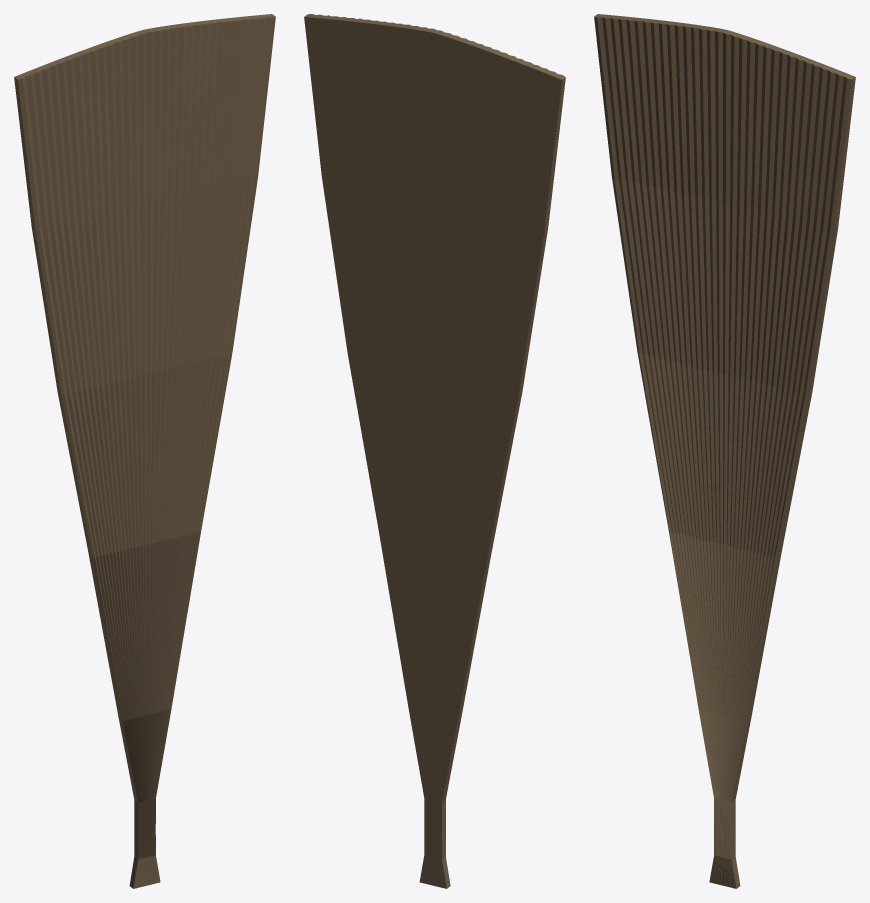
File: flabellophyton.glb
3 renders of one model, left to right at view 1: azimuth 30°, elevation 25°; view 2: azimuth 150°, elevation 25°; view 3: azimuth 330°, elevation 25°, orthographic.
Parts seen in each view (by area): view 1: narrow-radially-corrugated-thallus; view 2: narrow-radially-corrugated-thallus; view 3: narrow-radially-corrugated-thallus.
Part boxes in pixels (x1,y1,x2,y2): narrow-radially-corrugated-thallus: (14,14,275,888); narrow-radially-corrugated-thallus: (304,14,565,888); narrow-radially-corrugated-thallus: (594,14,855,888).
Size of the model in its own units: 0.019 by 0.06 by 0.00058.
